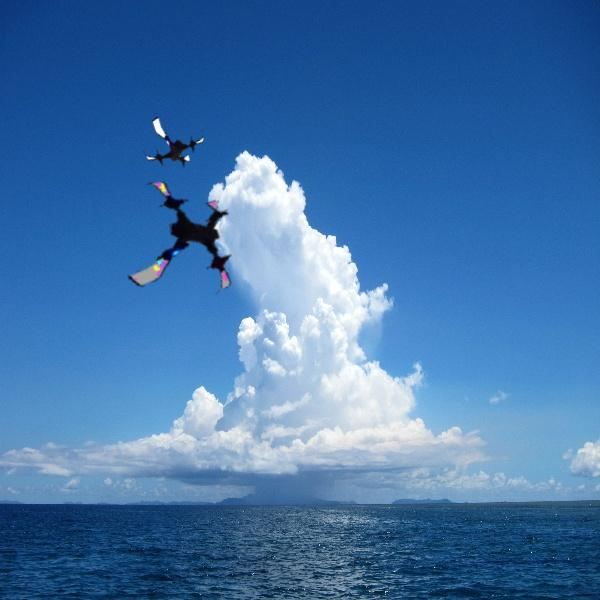drone: (105, 173, 242, 310), (142, 108, 209, 175)
